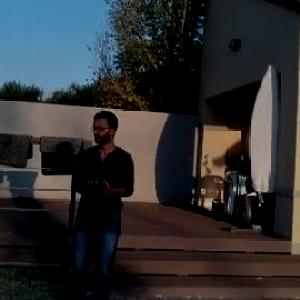follow: (63, 104, 137, 299)
